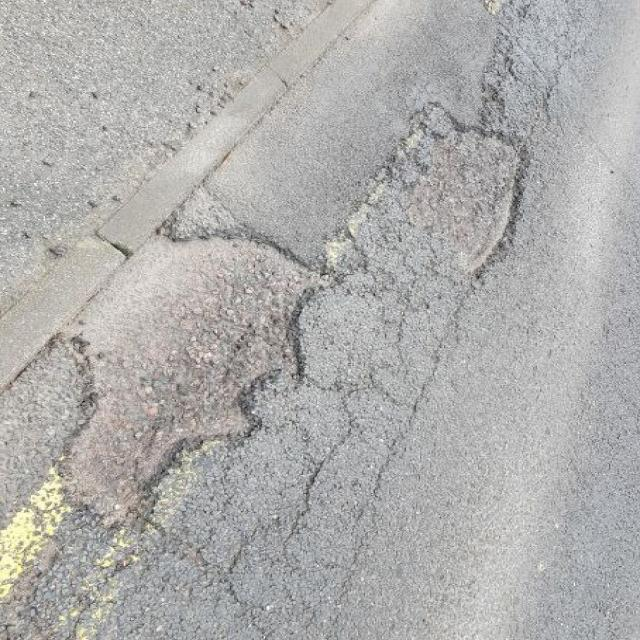pothole: (51, 214, 352, 536), (389, 98, 540, 284)
